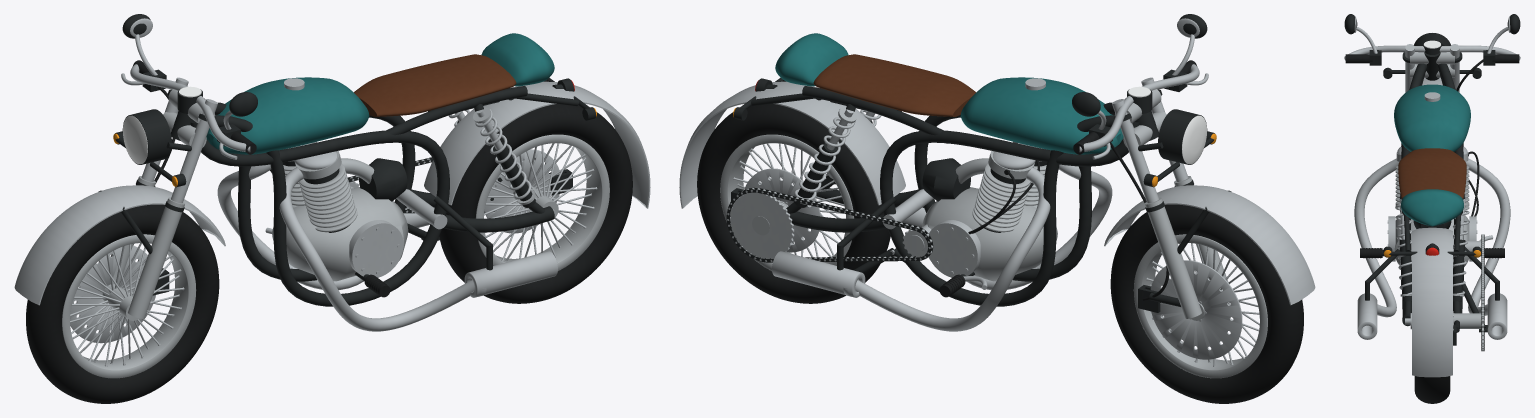
File: cafe-racer-motorcycle.fbx
3 renders of one model, left to right at view 1: azimuth 30°, elevation 25°; view 2: azimuth 150°, elevation 25°; view 3: azimuth 270°, elevation 25°, orthographic. The views are drawn at different scales.
Parts seen in each view (by area): view 1: Front_wheel_rounded_tyre_carcass, Rear_wheel_rounded_tyre_carcass, Continuous_frame_cradle_1, Original_sculpted_fuel_tank, Shaped_upholstered_seat, Rear_finite_curved_mudguard, Front_finite_curved_mudguard, Front_wheel_turned_rim_and_bead_seats, Rear_wheel_turned_rim_and_bead_seats, Sculpted_closed_crankcase, Cylinder_2_curved_exhaust_header, Front_wheel_drilled_finite_brake_rotor (+18 smaller); view 2: Front_wheel_rounded_tyre_carcass, Rear_wheel_rounded_tyre_carcass, Continuous_frame_cradle_-1, Original_sculpted_fuel_tank, Shaped_upholstered_seat, Rear_finite_curved_mudguard, Front_finite_curved_mudguard, Front_wheel_drilled_finite_brake_rotor, Front_wheel_turned_rim_and_bead_seats, Cylinder_1_curved_exhaust_header, Sculpted_closed_crankcase, Rear_toothed_chain_sprocket (+19 smaller); view 3: Rear_finite_curved_mudguard, Original_sculpted_fuel_tank, Shaped_upholstered_seat, Rounded_cafe_rear_seat_cowl, Cylinder_2_curved_exhaust_header, Cylinder_1_curved_exhaust_header, Rear_wheel_rounded_tyre_carcass, Cylinder_1_hollow_silencer, Cylinder_2_hollow_silencer, Continuous_swept_handlebar, Rear_damper_body_-1, Rear_damper_body_1 (+27 smaller).
Boxes of the visible parts, x1,y1,x2,y2 form: Front_wheel_rounded_tyre_carcass: [26, 204, 219, 403]; Rear_wheel_rounded_tyre_carcass: [439, 104, 632, 303]; Continuous_frame_cradle_1: [190, 115, 449, 306]; Original_sculpted_fuel_tank: [206, 77, 369, 154]; Shaped_upholstered_seat: [354, 54, 516, 116]; Rear_finite_curved_mudguard: [424, 81, 650, 208]; Front_finite_curved_mudguard: [14, 185, 225, 305]; Front_wheel_turned_rim_and_bead_seats: [62, 234, 196, 378]; Rear_wheel_turned_rim_and_bead_seats: [476, 134, 609, 270]; Sculpted_closed_crankcase: [272, 187, 408, 281]; Cylinder_2_curved_exhaust_header: [279, 167, 474, 331]; Front_wheel_drilled_finite_brake_rotor: [70, 245, 155, 343]; Front_wheel_rounded_tyre_carcass: [1110, 204, 1303, 403]; Rear_wheel_rounded_tyre_carcass: [697, 104, 890, 303]; Continuous_frame_cradle_-1: [880, 115, 1139, 306]; Original_sculpted_fuel_tank: [960, 77, 1123, 154]; Shaped_upholstered_seat: [813, 54, 975, 116]; Rear_finite_curved_mudguard: [679, 81, 905, 208]; Front_finite_curved_mudguard: [1104, 185, 1315, 305]; Front_wheel_drilled_finite_brake_rotor: [1150, 260, 1242, 359]; Front_wheel_turned_rim_and_bead_seats: [1133, 234, 1267, 378]; Cylinder_1_curved_exhaust_header: [855, 167, 1050, 331]; Sculpted_closed_crankcase: [922, 187, 1057, 281]; Rear_toothed_chain_sprocket: [730, 192, 794, 258]; Rear_finite_curved_mudguard: [1412, 227, 1452, 377]; Original_sculpted_fuel_tank: [1394, 84, 1470, 151]; Shaped_upholstered_seat: [1398, 148, 1466, 198]; Rounded_cafe_rear_seat_cowl: [1401, 189, 1463, 226]; Cylinder_2_curved_exhaust_header: [1354, 158, 1399, 317]; Cylinder_1_curved_exhaust_header: [1465, 158, 1510, 315]; Rear_wheel_rounded_tyre_carcass: [1414, 376, 1450, 403]; Cylinder_1_hollow_silencer: [1487, 293, 1507, 339]; Cylinder_2_hollow_silencer: [1357, 293, 1377, 339]; Continuous_swept_handlebar: [1344, 45, 1520, 60]; Rear_damper_body_-1: [1453, 239, 1465, 301]; Rear_damper_body_1: [1399, 239, 1411, 301].
Size of the model in its own units: 2.14 by 1.09 by 0.6912.
Materials: 13 (13 with a texture image).
